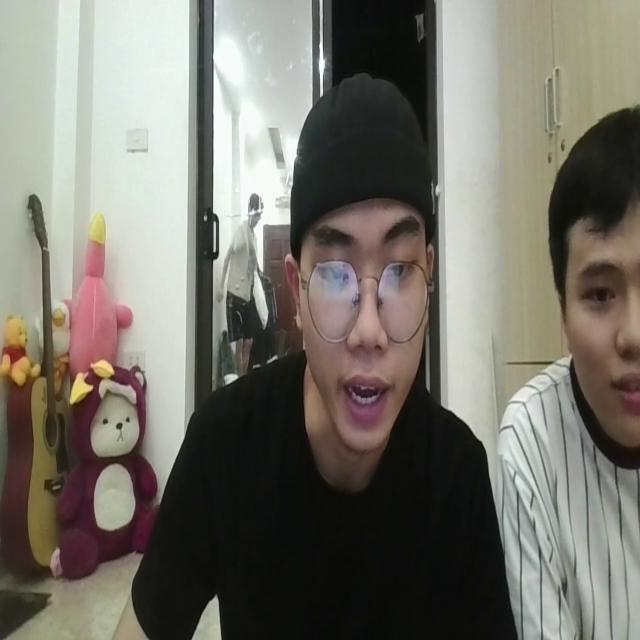extra_person: (510, 108, 640, 640)
student: (140, 82, 504, 640)
